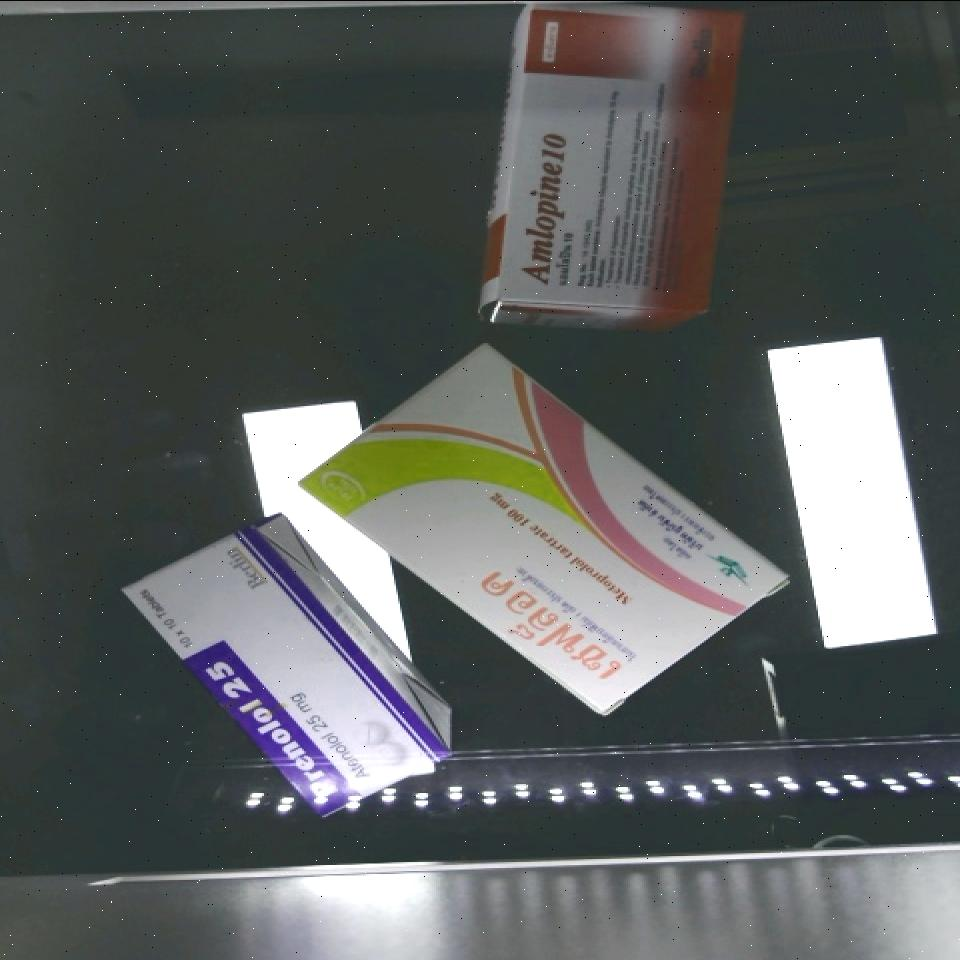medicine_box: (298, 305, 790, 758), (121, 497, 444, 843), (491, 0, 748, 327)
medicine_label_obb: (440, 551, 647, 722), (188, 637, 356, 820), (495, 117, 589, 309)
